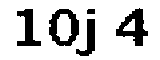0: (49, 5, 80, 48)
1: (14, 7, 43, 50)
4: (113, 8, 148, 49)
j: (79, 3, 105, 60)
